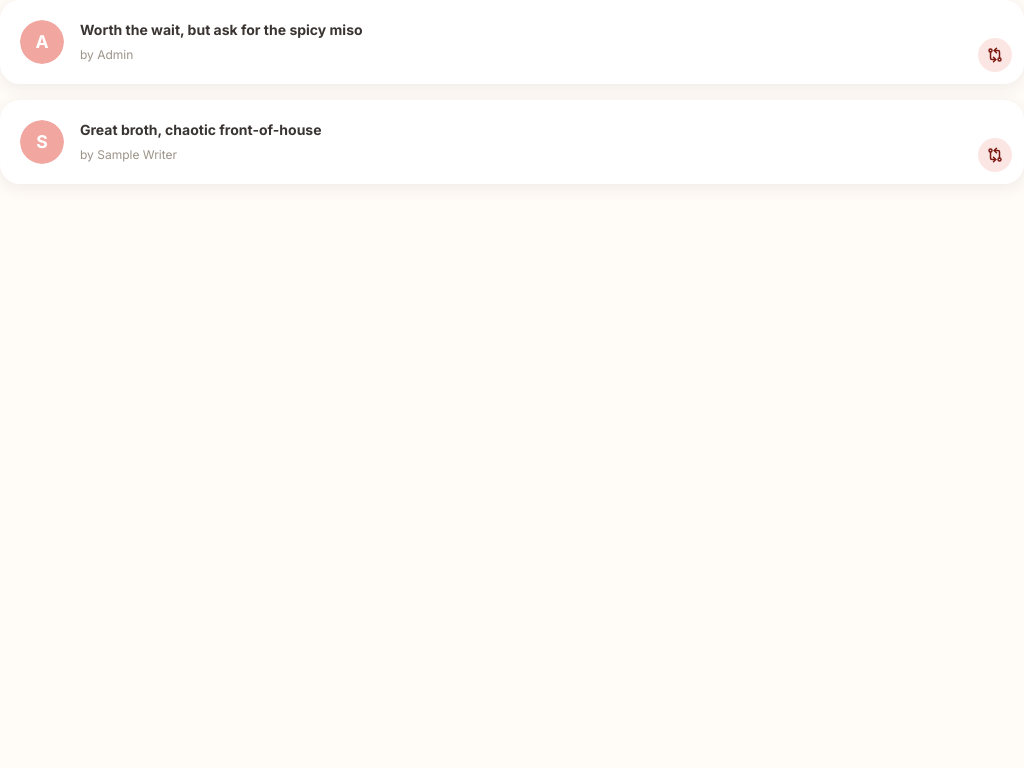
ProductCompareSelector › clears the selection when the panel is dismissed
The image size is (1024, 768).
Step 1. Click the button named "Compare Worth the wait, but ask for the spicy miso" → (995, 55), box [978,38,1012,72]
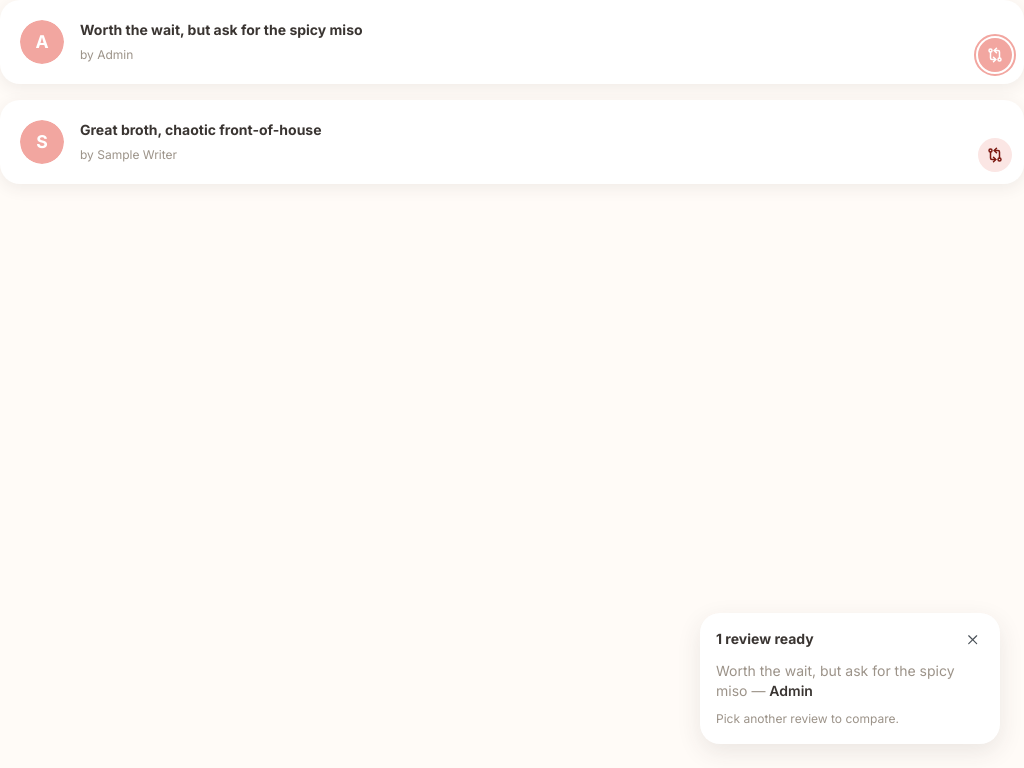
Step 2. Click the button named "Cancel compare selection" → (973, 640), box [962,629,984,651]
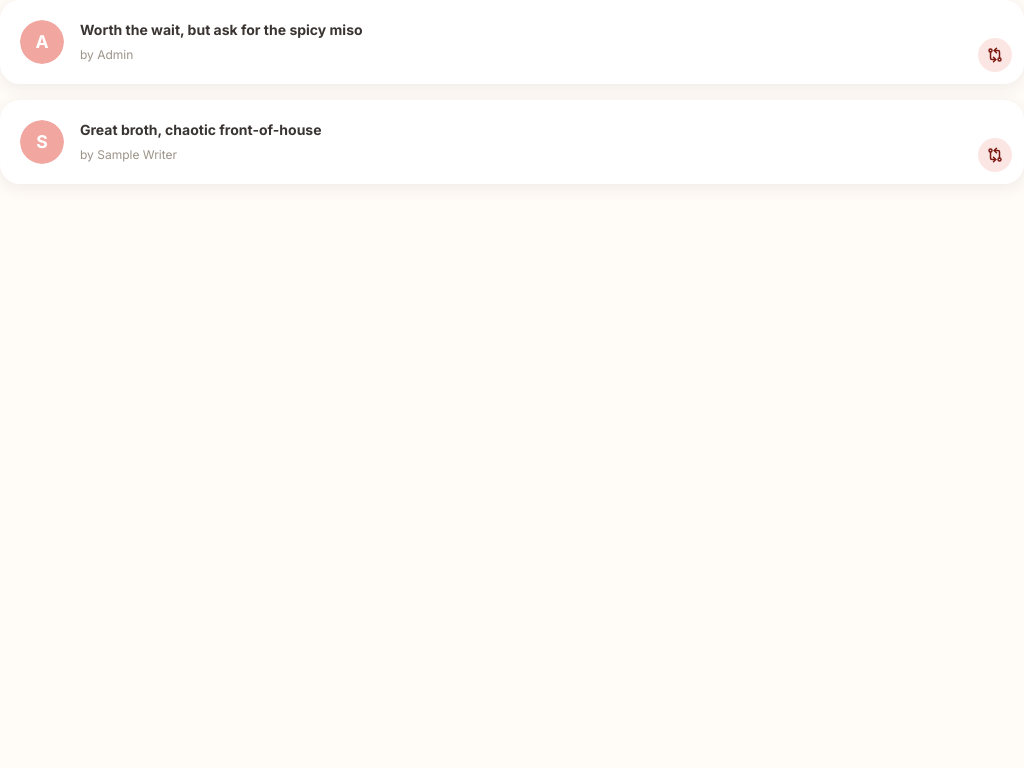
Now the text "1 review ready" is gone
